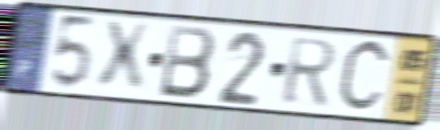2: (217, 27, 268, 109)
5: (47, 12, 102, 95)
B: (157, 22, 218, 102)
C: (335, 36, 394, 118)
R: (280, 35, 340, 108)
X: (94, 19, 152, 95)
